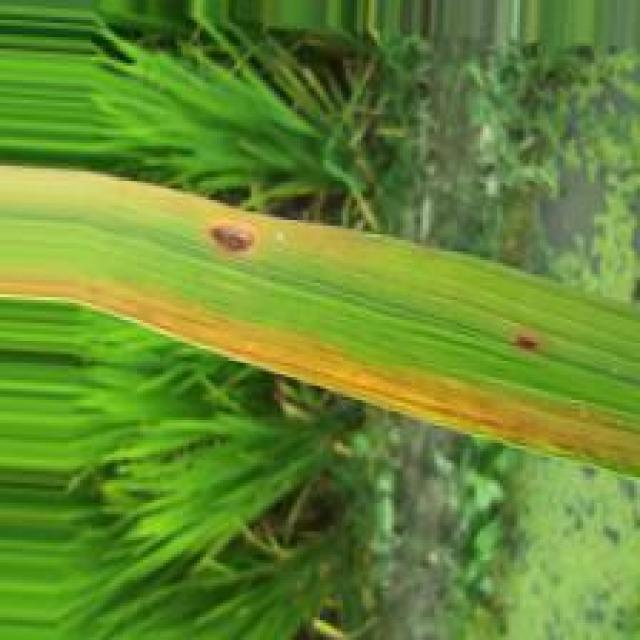Brown_Spot: (206, 213, 258, 261), (511, 325, 540, 355)
